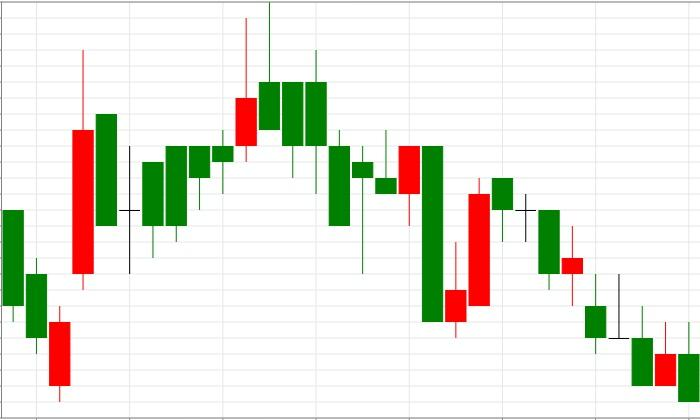inverse_hammer_rise: (258, 2, 398, 274)
